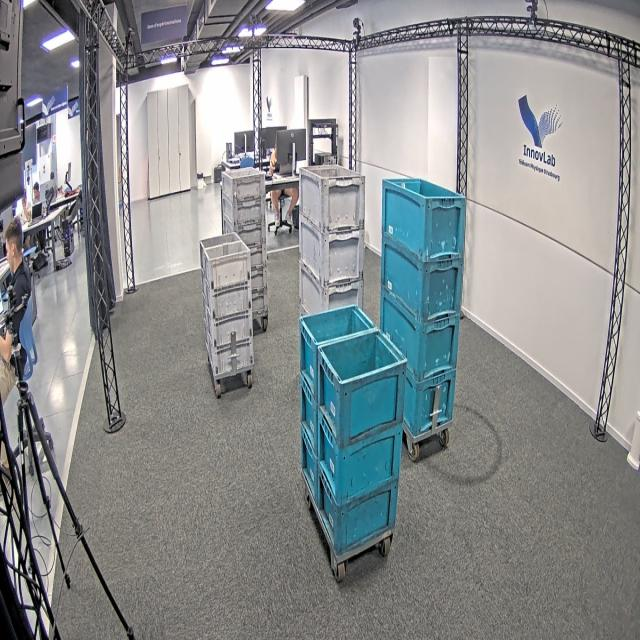Box3G: (222, 192, 267, 225), (223, 168, 266, 201), (222, 218, 266, 248), (244, 242, 267, 269), (251, 292, 270, 319), (247, 268, 269, 291)
Box4G: (300, 217, 368, 288), (300, 164, 366, 232), (298, 260, 366, 322)
Box8G: (204, 240, 250, 292), (204, 306, 252, 351), (202, 279, 251, 319), (199, 231, 242, 276), (208, 335, 255, 376)
BoxB4: (378, 288, 462, 383), (378, 237, 466, 327), (381, 177, 467, 264), (398, 370, 456, 440)
BoxB8: (320, 310, 404, 446), (318, 472, 402, 556), (320, 421, 401, 505), (300, 305, 378, 391), (300, 424, 320, 508), (302, 375, 322, 446)
